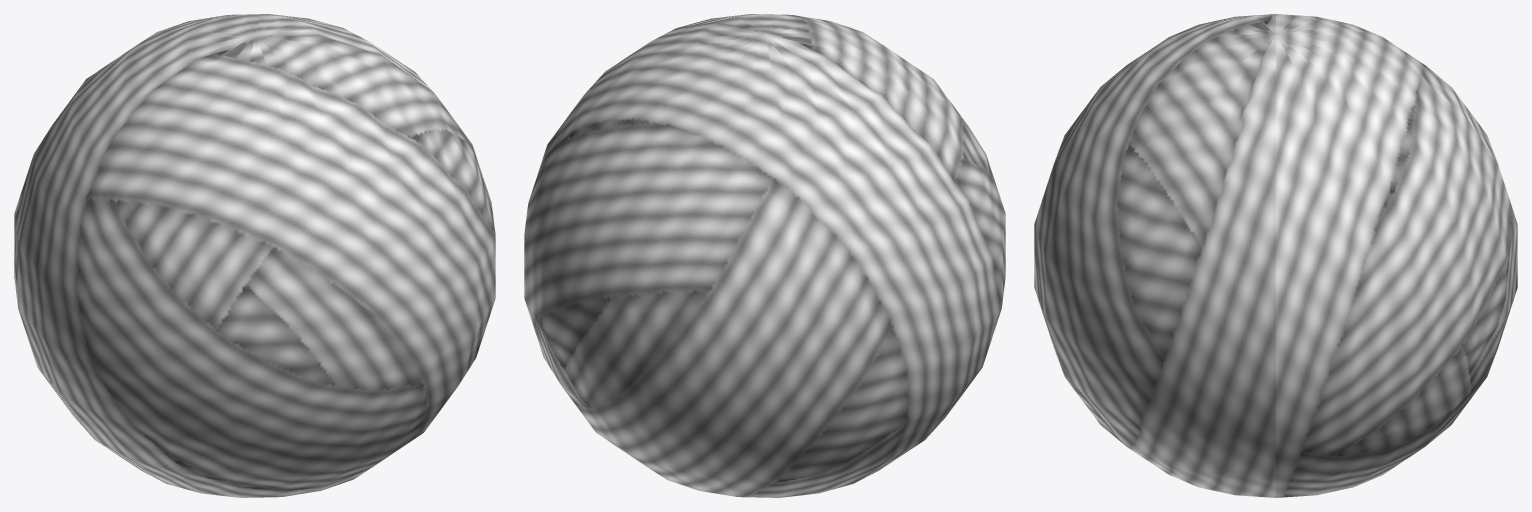
Rendered from yarn_ball.glb.
3 renders of one model, left to right at view 1: azimuth 30°, elevation 25°; view 2: azimuth 150°, elevation 25°; view 3: azimuth 270°, elevation 25°, orthographic.
Visible parts, largest first — view 1: YarnBall; view 2: YarnBall; view 3: YarnBall.
Part boxes in pixels (x1,y1,x2,y2): YarnBall: [14, 14, 495, 497]; YarnBall: [524, 14, 1005, 497]; YarnBall: [1034, 14, 1517, 497].
Size of the model in its own units: 0.4949 by 0.5 by 0.4949.
1 material, 1 textured.
